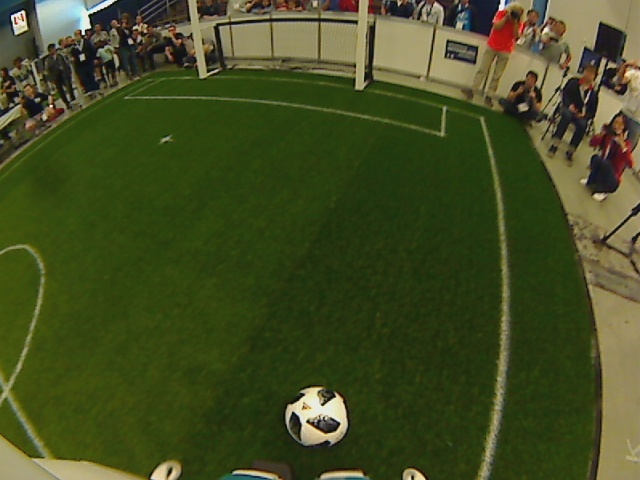ball: (282, 384, 350, 449)
